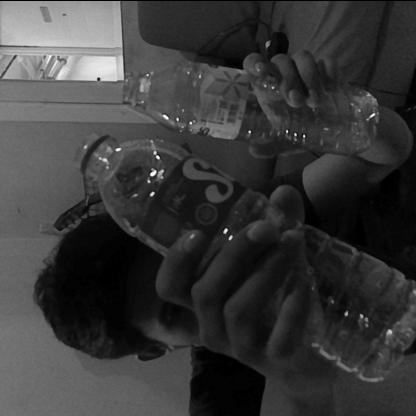plastic_bottles: (73, 131, 416, 382), (118, 64, 380, 158)
